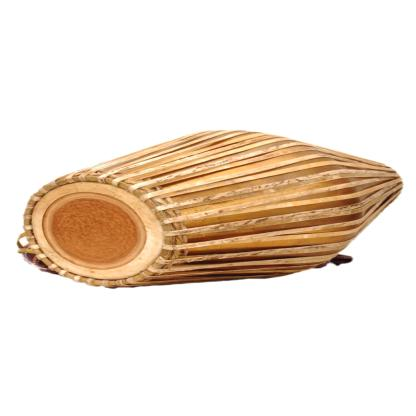Mridangam: (11, 114, 409, 304)
